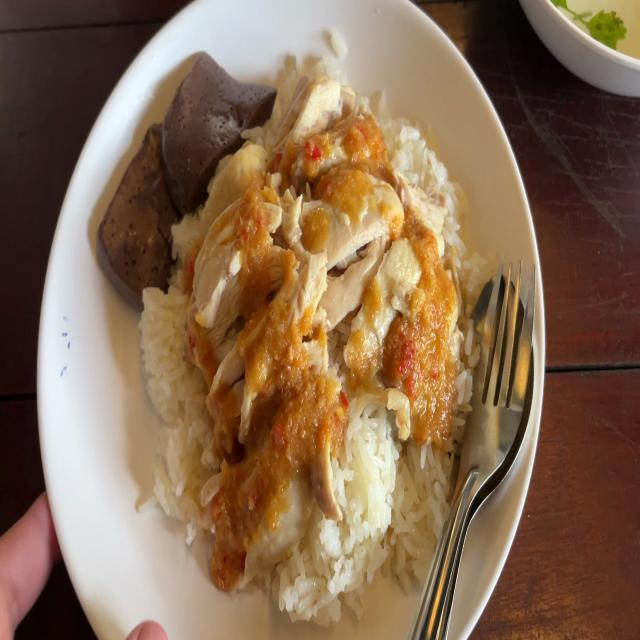boiled_chicken: (194, 79, 448, 483)
boiled_chicken_blood_jelly: (87, 124, 181, 299), (163, 65, 254, 185)
chicken_rice: (91, 46, 494, 628)
